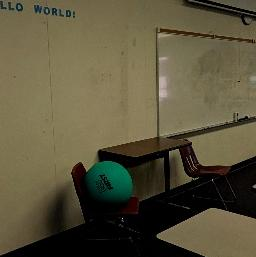algae: (80, 158, 134, 208)
